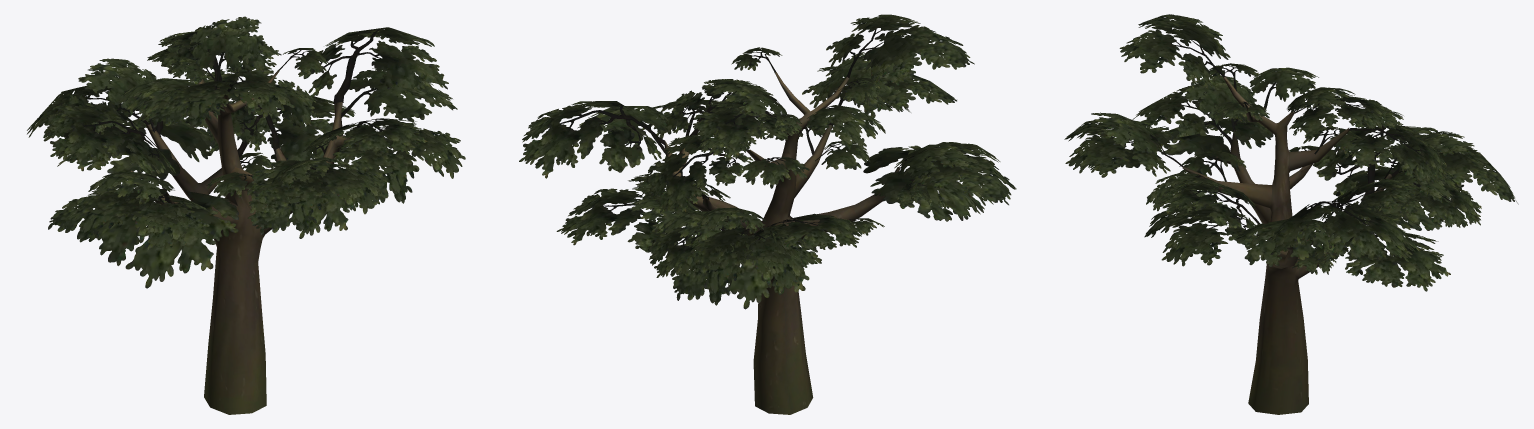
3 views of the same model, side by side, from view 1: azimuth 30°, elevation 25°; view 2: azimuth 150°, elevation 25°; view 3: azimuth 270°, elevation 25° (orthographic). The views are drawn at different scales.
Visible parts, largest first — view 1: body0_model0_lod0_mesh0, body0_model0_lod0_mesh1; view 2: body0_model0_lod0_mesh0, body0_model0_lod0_mesh1; view 3: body0_model0_lod0_mesh0, body0_model0_lod0_mesh1.
Part boxes in pixels (bbox=[...]): body0_model0_lod0_mesh0: bbox=[27, 16, 465, 288]; body0_model0_lod0_mesh1: bbox=[130, 70, 351, 414]; body0_model0_lod0_mesh0: bbox=[519, 14, 1016, 309]; body0_model0_lod0_mesh1: bbox=[664, 72, 900, 414]; body0_model0_lod0_mesh0: bbox=[1064, 14, 1518, 291]; body0_model0_lod0_mesh1: bbox=[1182, 76, 1392, 414].
Bounding box in the file's own units: 874 × 666 × 817.
2 materials, 2 textured.
